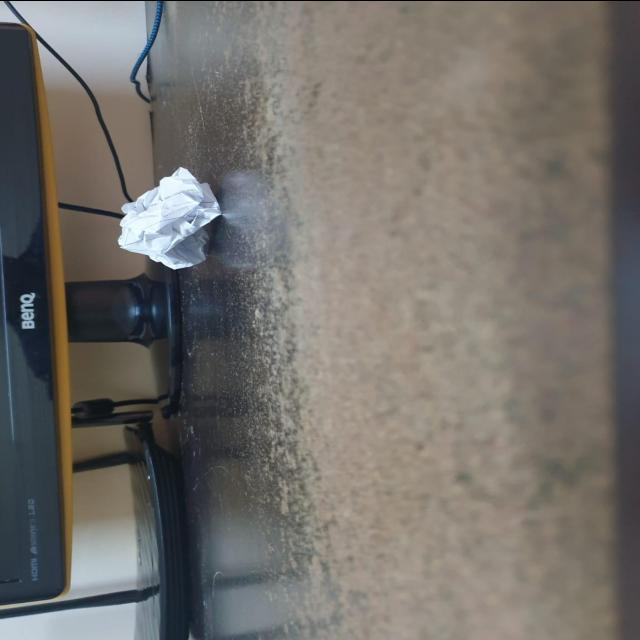kertas: (115, 166, 232, 268)
